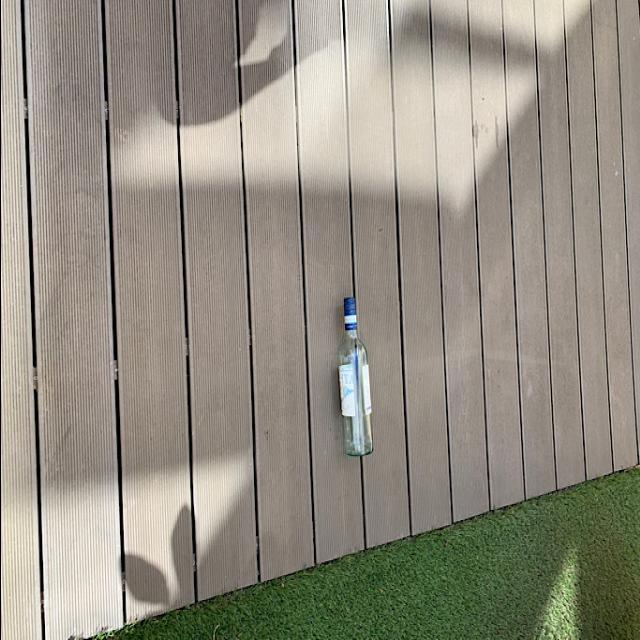litter: (334, 289, 376, 459)
